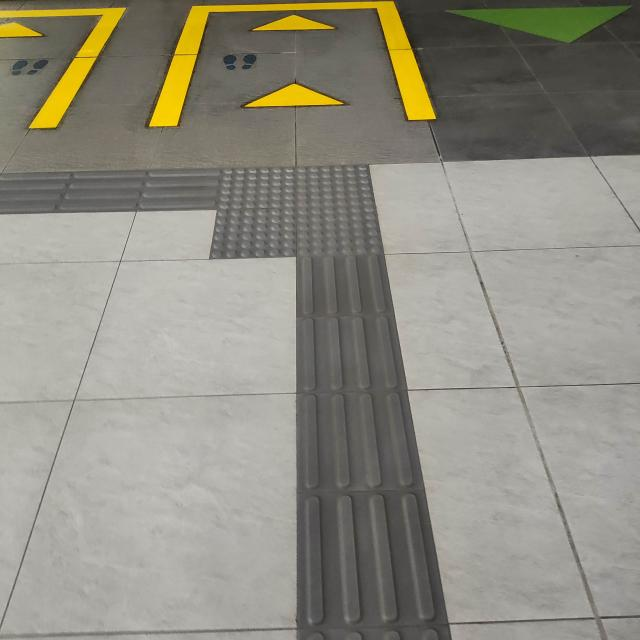kiri: (105, 122, 412, 309)
